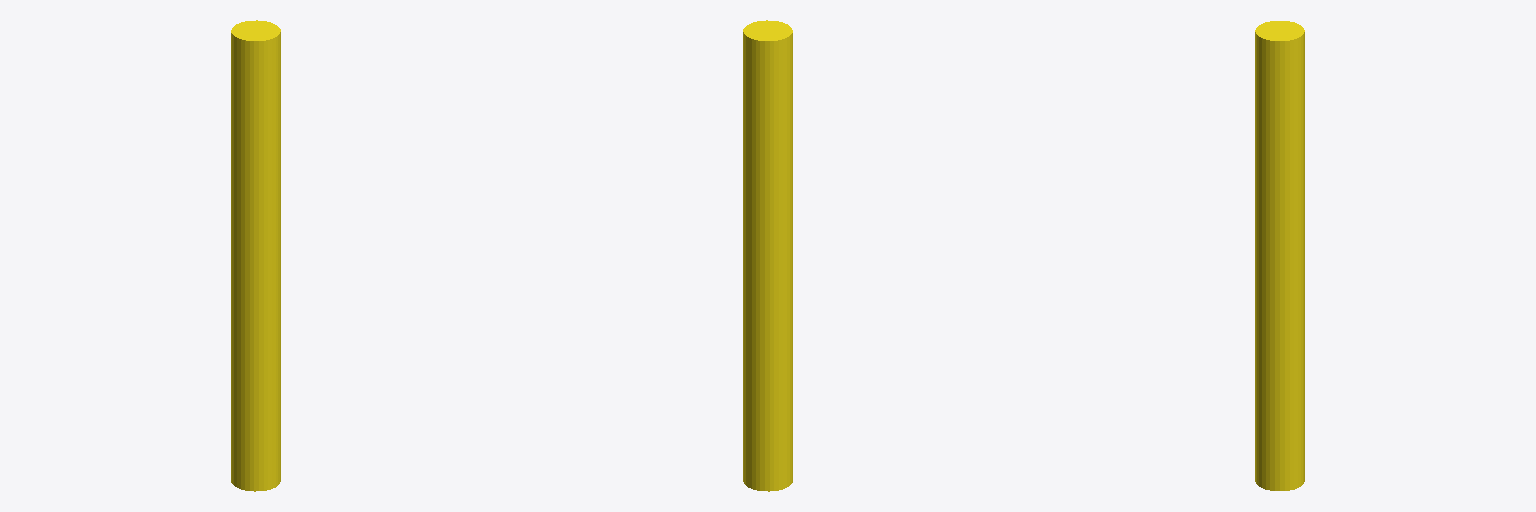
The robot description file, URDF, robot "force_cylinder_visual_only":
<?xml version="1.0"?>
<robot name="force_cylinder_visual_only">
  <link name="base">
    <visual>
      <origin xyz="0 0 0.04" rpy="0 0 0"/>
      <geometry>
        <cylinder radius="0.004" length="0.08"/>
      </geometry>
      <material name="force_yellow">
        <color rgba="1.0 0.92 0.15 1.0"/>
      </material>
    </visual>
  </link>
</robot>

--- What the picture shows (computed from the rendered views, not written in the file) ---
The picture shows the robot from 3 angles, left to right: view 1: azimuth 30°, elevation 25°; view 2: azimuth 150°, elevation 25°; view 3: azimuth 270°, elevation 25°; orthographic projection.
Robot: force_cylinder_visual_only — 1 links, 0 joints (none); root link base; default pose: every joint at zero.
Visible links, largest first — view 1: base; view 2: base; view 3: base.
Boxes of the visible links, x1=… form: base: x1=231, y1=20, x2=280, y2=491; base: x1=743, y1=20, x2=792, y2=491; base: x1=1255, y1=21, x2=1304, y2=490.
Bounding box of the posed robot: 0.008 × 0.008 × 0.08 m (x, y, z).
Geometry: primitives only (box / cylinder / sphere), no mesh files.
